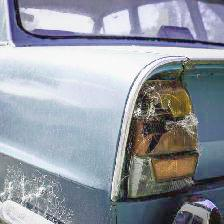tail_lamp: (114, 56, 197, 206)
